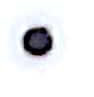cancer: (8, 11, 75, 73)
